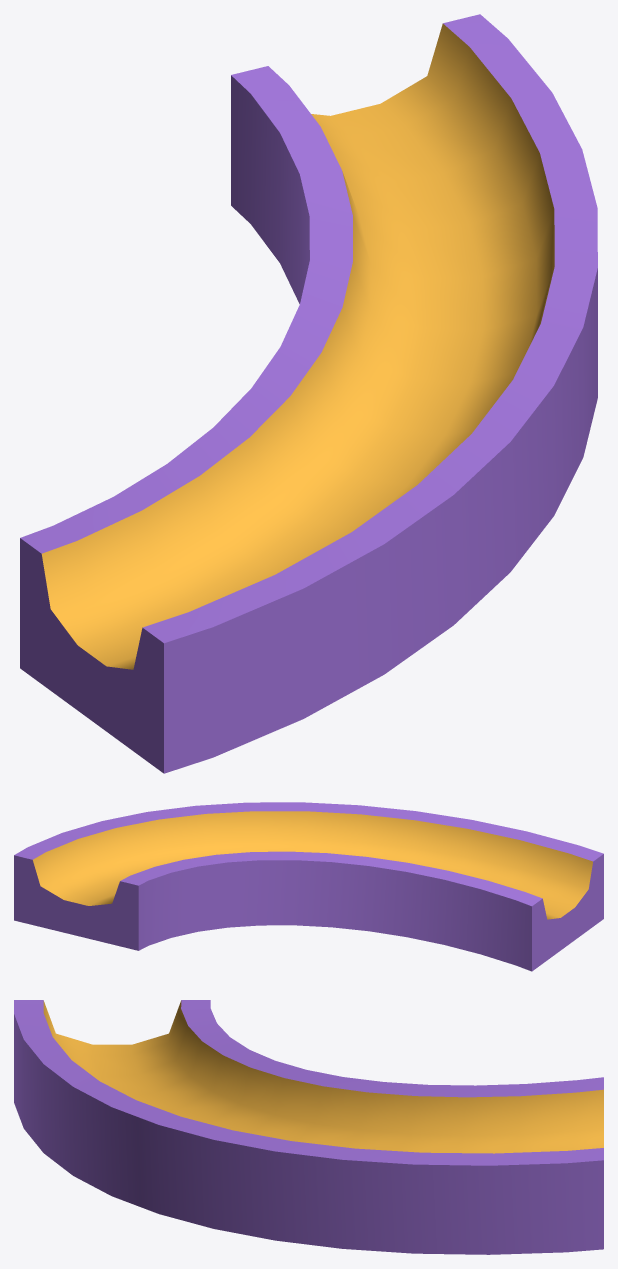
File: helix-large-quarter-left.glb
3 renders of one model, top to bottom at view 1: azimuth 30°, elevation 25°; view 2: azimuth 150°, elevation 25°; view 3: azimuth 270°, elevation 25°, orthographic. The views are drawn at different scales.
Visible parts, largest first — view 1: helix-large-quarter-left; view 2: helix-large-quarter-left; view 3: helix-large-quarter-left.
Boxes of the visible parts, x1,y1,x2,y2 form: helix-large-quarter-left: [20, 14, 597, 773]; helix-large-quarter-left: [14, 802, 603, 971]; helix-large-quarter-left: [14, 1000, 603, 1254].
Bounding box in the file's own units: 3 × 0.9999 × 3.
Materials: 1 (1 with a texture image).
